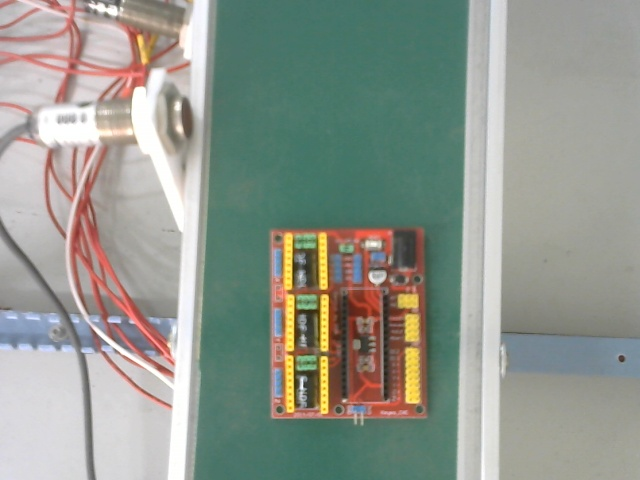IC: (347, 329, 381, 367)
capacitor: (290, 369, 324, 415), (290, 245, 319, 291), (292, 306, 320, 352), (364, 262, 391, 291)
connector: (392, 291, 431, 408), (388, 225, 422, 268)
